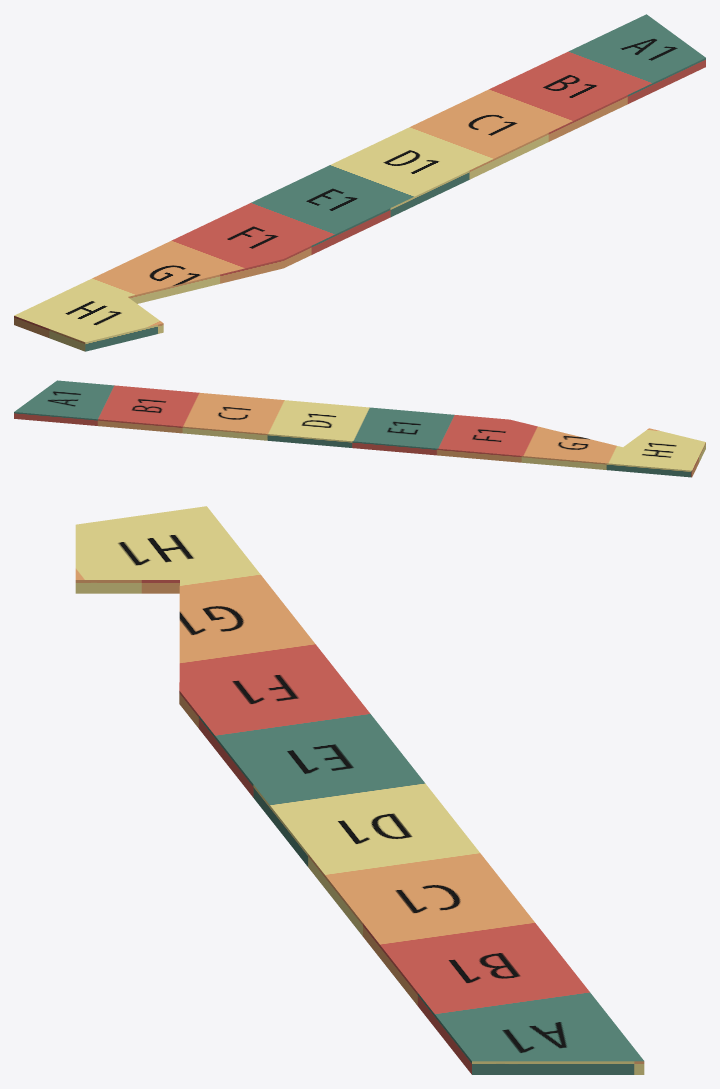
Rendered from rafter_test_001.glb.
The picture shows the model from 3 angles, top to bottom: view 1: azimuth 30°, elevation 25°; view 2: azimuth 150°, elevation 25°; view 3: azimuth 270°, elevation 25°; orthographic projection. The views are drawn at different scales.
Visible parts, largest first — view 1: Vert; view 2: Vert; view 3: Vert.
Part boxes in pixels (x1,y1,x2,y2): Vert: (14, 14, 705, 351); Vert: (14, 380, 705, 477); Vert: (75, 506, 644, 1074).
Size of the model in its own units: 0.3001 by 0.00344 by 0.13.
1 material, 1 textured.
